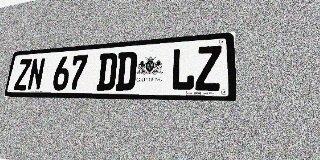6: (52, 56, 72, 90)
7: (67, 55, 88, 90)
D: (115, 51, 138, 91), (96, 52, 118, 90)
L: (170, 47, 195, 91)
N: (27, 58, 46, 90)
Z: (195, 45, 222, 91), (14, 59, 32, 90)
